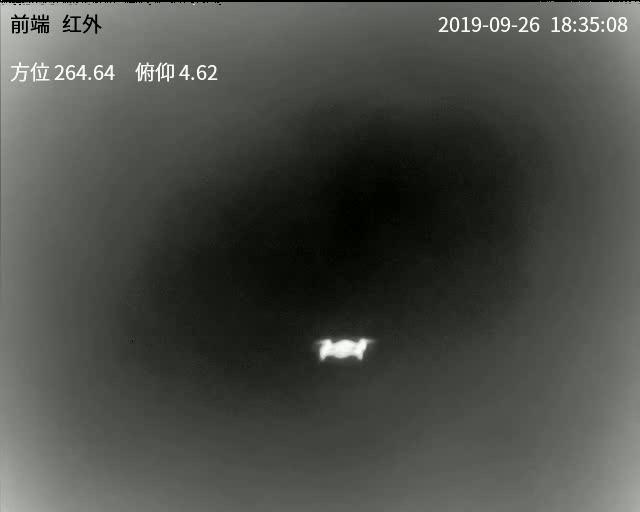DRONE: (317, 337, 371, 363)
